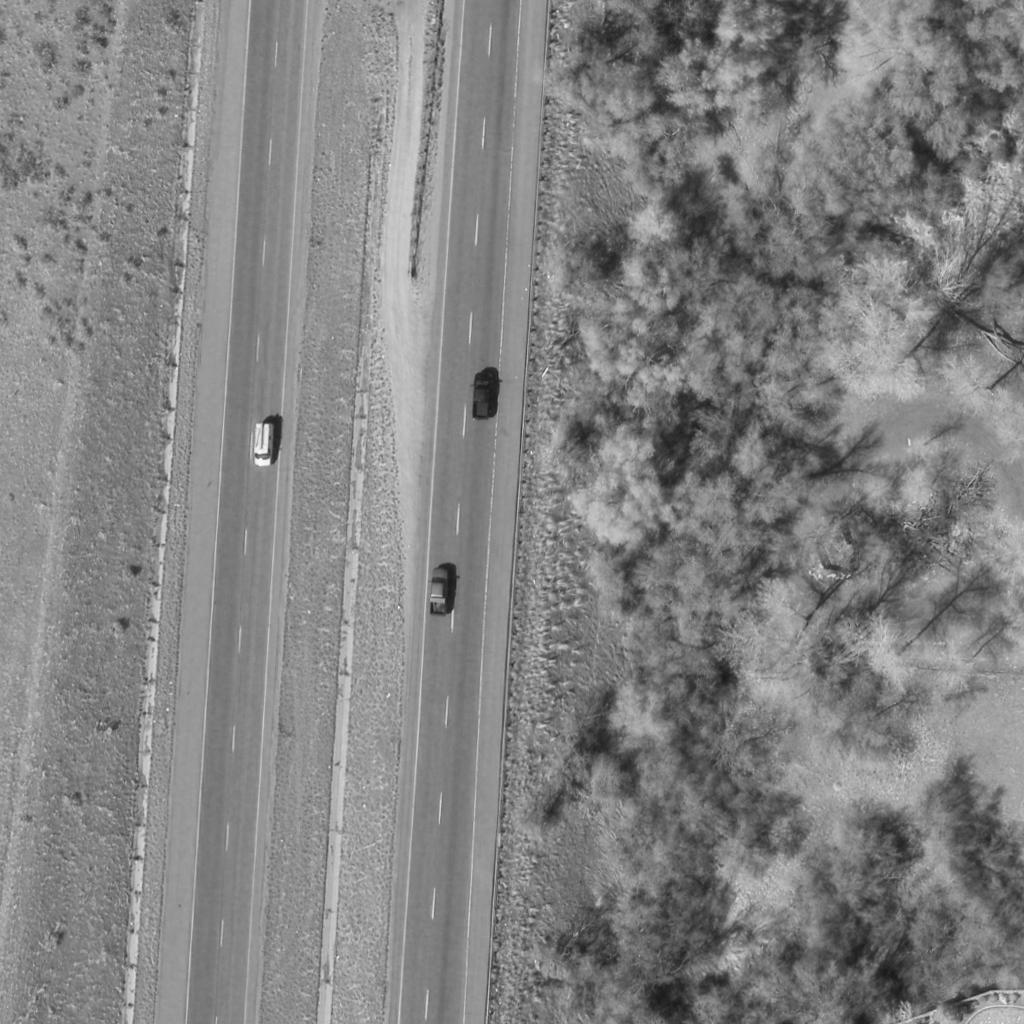vehicle: (473, 373, 495, 421), (253, 423, 275, 469), (431, 569, 449, 617)
